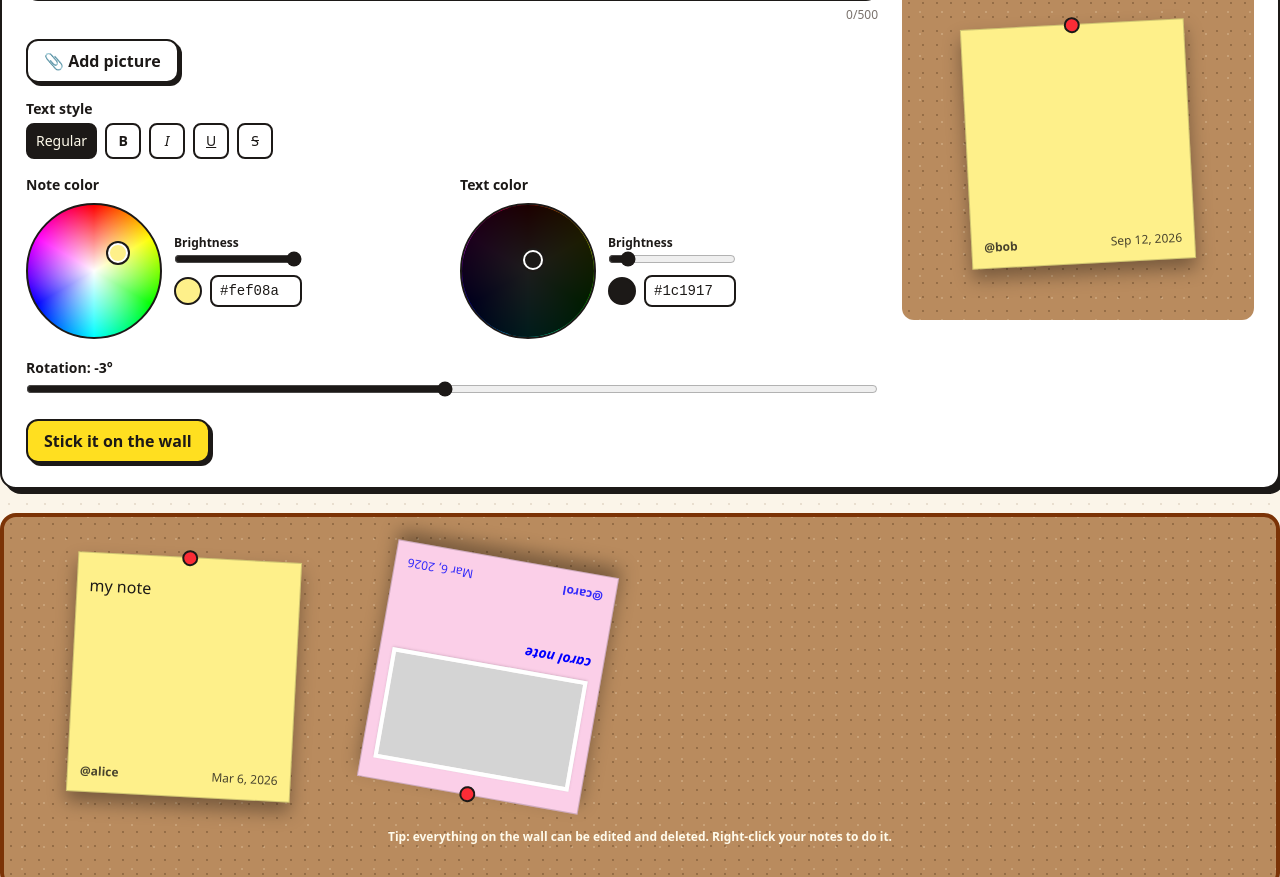
UserWallPage › lets the wall owner use delete on any note, but not edit other people's notes
(page scrolled)
Right-click the element showing "carol note @carol Mar 6, 2026" at (488, 677), box [357, 539, 619, 815]
(page scrolled)
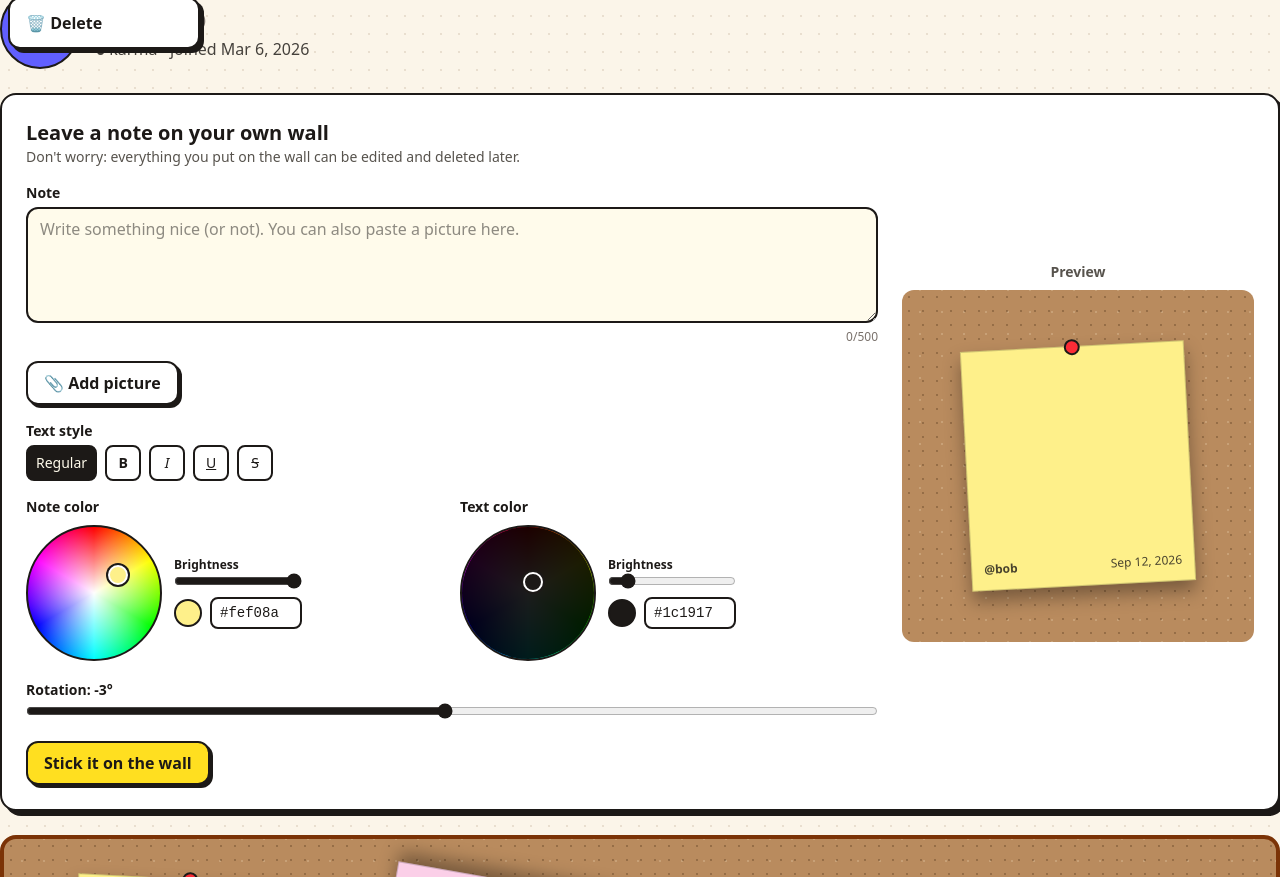
Result: the menu item "🗑️ Delete" is shown at [10, 3, 198, 43]
